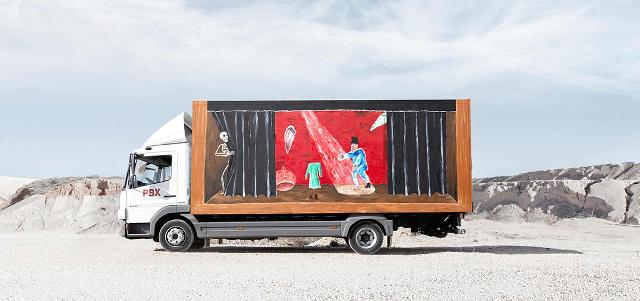truck: (97, 91, 486, 259)
